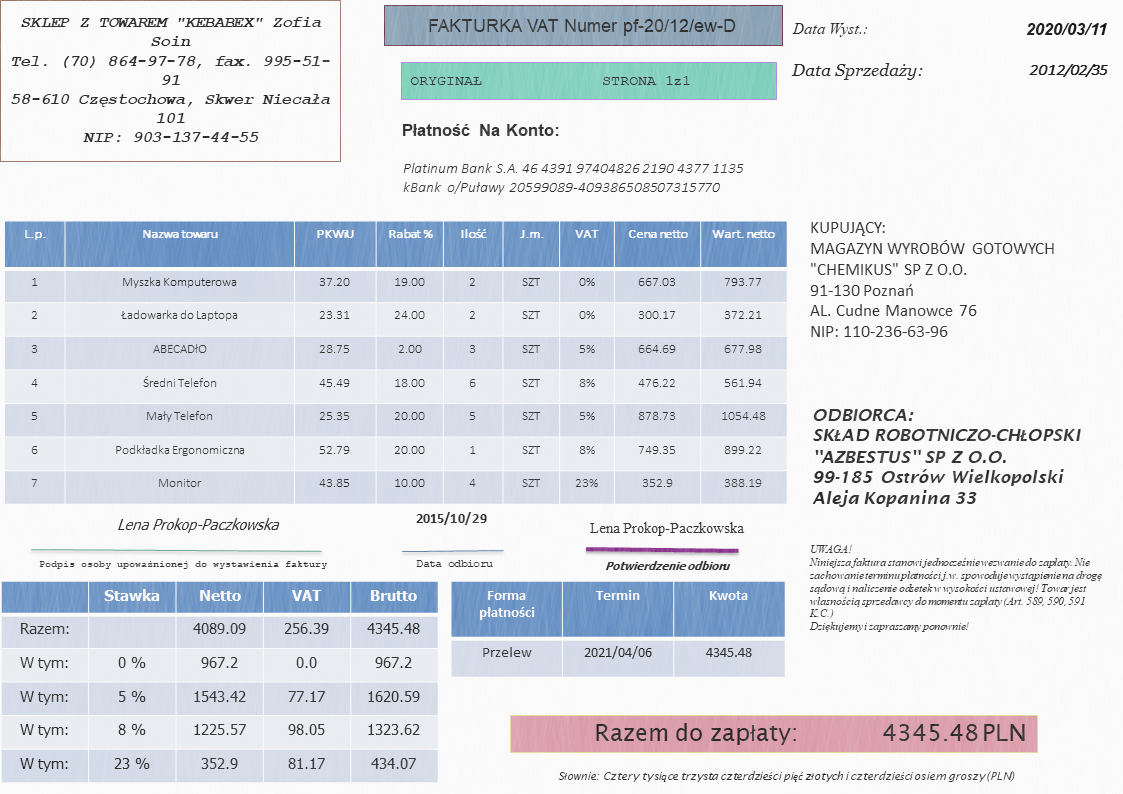Table: (2, 220, 789, 506), (1, 580, 440, 785), (450, 580, 787, 678)
TextBox: (6, 14, 334, 144), (807, 216, 1058, 341), (811, 405, 1083, 509), (807, 541, 1106, 635), (399, 159, 746, 196), (594, 720, 1027, 747), (425, 13, 740, 38), (557, 768, 1018, 784), (409, 72, 694, 89), (36, 558, 329, 571), (115, 515, 282, 535), (400, 120, 562, 140), (586, 518, 744, 537), (790, 61, 926, 82), (603, 557, 731, 573), (1025, 20, 1109, 38), (791, 19, 869, 38), (1027, 61, 1109, 79), (414, 509, 489, 528), (414, 556, 494, 571)
